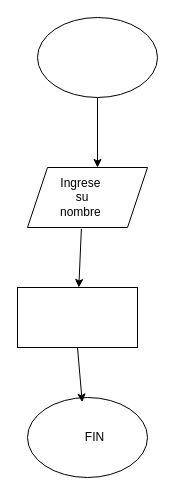
Some shapes in this 175 by 495 pixel diagram are drawn without their labels. The box of each missing label's shape, as (x1, y1, x2, y2) in pixels:
hola john: (16, 286, 138, 348)
INICIO: (36, 16, 158, 98)
